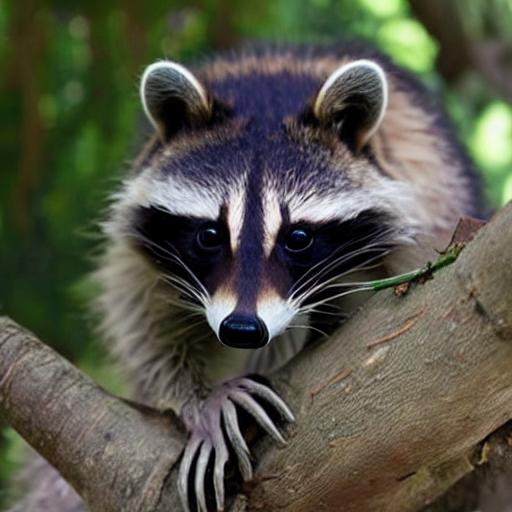raccoon: (65, 27, 490, 389)
